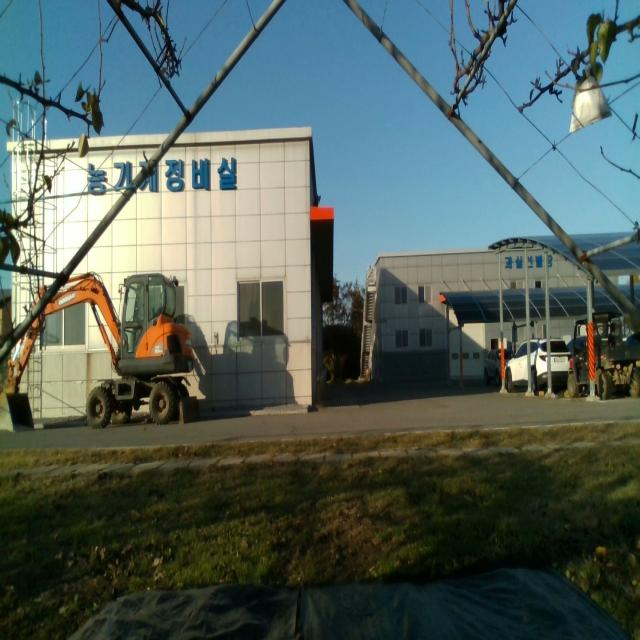pearbags: (569, 73, 613, 133)
